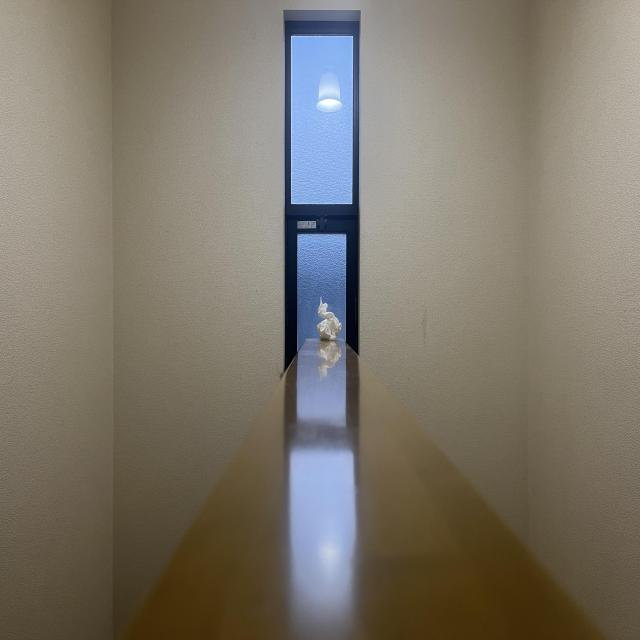衛生紙: (318, 297, 342, 341)
